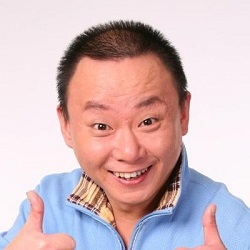unmask: (56, 52, 188, 206)
